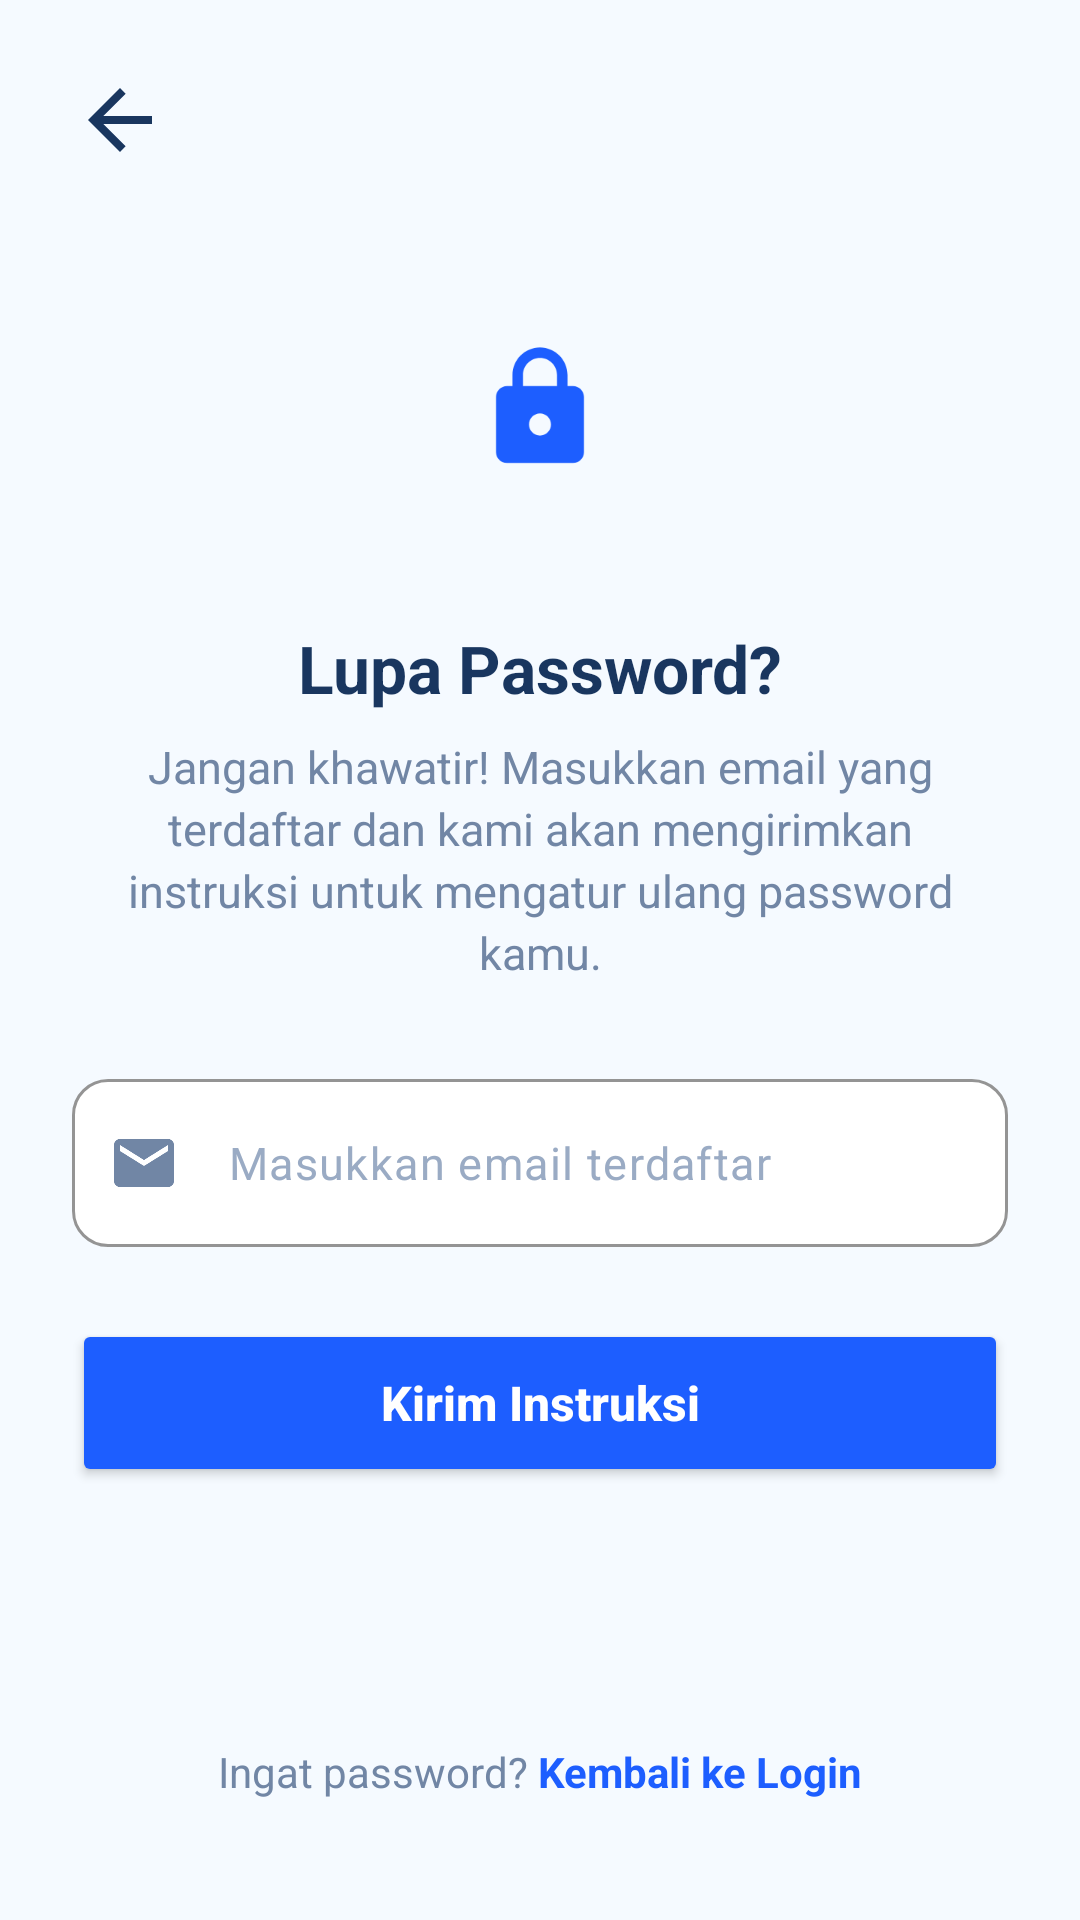

Named icons in this screenshot (1080px x 1920px) and their bounding boxes, (x1, y1, x2, y2):
Ikon gembok: (496, 347, 584, 464)
Kembali: (88, 88, 152, 152)
